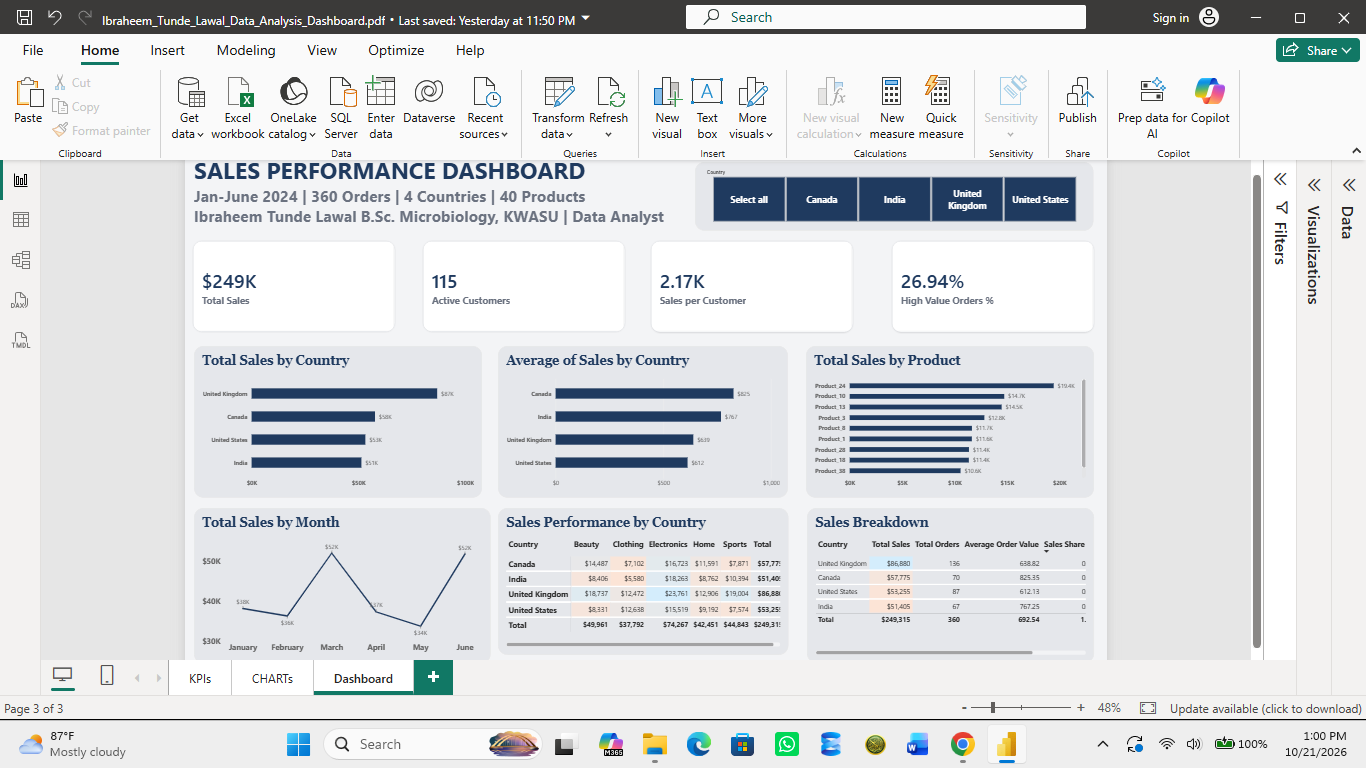

What the dashboard file says about the page in this screenshot:
{"tool":"powerbi","page":{"name":"Dashboard","canvas":[1920,1080],"ordinal":2},"visuals":[{"type":"cardVisual","fields":{"Data":["Sales.Total Sales"]},"box":[16.3,181.6,420.6,189.3],"z":0,"group":"g1"},{"type":"textbox","box":[0,226.5,335,173],"z":0},{"type":"textbox","box":[18,0,1174,182],"z":1000},{"type":"cardVisual","fields":{"Data":["Sales.Active Customers"]},"box":[495.9,181.6,420.6,189.3],"z":1000,"group":"g1"},{"type":"cardVisual","fields":{"Data":["Sales.Sales per Customer"]},"box":[970.5,181.6,420.6,189.6],"z":2000,"group":"g1"},{"type":"barChart","title":"Total Sales by Country","fields":{"Category":["Sales.Country"],"Y":["Sum(Sales.SalesAmount)"]},"box":[18.4,400,600,316.3],"z":2000},{"type":"cardVisual","fields":{"Data":["Sales.High Value Orders %"]},"box":[1472.6,181.6,420.6,189.6],"z":3000,"group":"g1"},{"type":"barChart","title":"Total Sales by Product","fields":{"Category":["Sales.ProductName"],"Y":["Sum(Sales.SalesAmount)"]},"box":[1294.7,400,600,315.8],"z":3000},{"type":"clusteredBarChart","title":"Average of Sales by Country","fields":{"Category":["Sales.Country"],"Y":["Avg(Sales.SalesAmount)"]},"box":[653.1,400,604.1,316.3],"z":4000},{"type":"pivotTable","title":"Sales Performance by Country","fields":{"Columns":["Sales.Category"],"Rows":["Sales.Country"],"Values":["Sales.Total Sales"]},"box":[652.5,737.5,605.3,306],"z":5000},{"type":"lineChart","title":"Total Sales by Month","fields":{"Category":["Sales.OrderDate.Variation.Date Hierarchy.Month"],"Y":["Sales.Total Sales"]},"box":[18.4,736.8,618.4,323.7],"z":6000},{"type":"group","id":"g1","title":"Group 1","box":[16.3,181.6,1877.6,189.8],"z":7000},{"type":"slicer","fields":{"Values":["Sales.Country"]},"box":[1062.5,17.5,830,142.5],"z":8000},{"type":"tableEx","title":"Sales Breakdown","fields":{"Values":["Sales.Country","Sales.Total Sales","Sales.Total Orders","Sales.Average Order Value","Sales.Sales Share %","Sales.Country Rank"]},"box":[1295,737.5,597.5,322.5],"z":8001}]}

Visuals, with their boxes on the page's 1920x1080 design canvas (x1, y1, x2, y2). These are canvas units, not pixel positions in the 1366x768 screenshot, which may show the page scaled, cropped or inside an application window:
cardVisual - Sales.Total Sales: rect(16, 182, 437, 371)
textbox: rect(0, 226, 335, 400)
textbox: rect(18, 0, 1192, 182)
cardVisual - Sales.Active Customers: rect(496, 182, 916, 371)
cardVisual - Sales.Sales per Customer: rect(970, 182, 1391, 371)
"Total Sales by Country" barChart: rect(18, 400, 618, 716)
cardVisual - Sales.High Value Orders %: rect(1473, 182, 1893, 371)
"Total Sales by Product" barChart: rect(1295, 400, 1895, 716)
"Average of Sales by Country" clusteredBarChart: rect(653, 400, 1257, 716)
"Sales Performance by Country" pivotTable: rect(652, 738, 1258, 1044)
"Total Sales by Month" lineChart: rect(18, 737, 637, 1060)
"Group 1" group: rect(16, 182, 1894, 371)
slicer - Sales.Country: rect(1062, 18, 1892, 160)
"Sales Breakdown" tableEx: rect(1295, 738, 1892, 1060)
